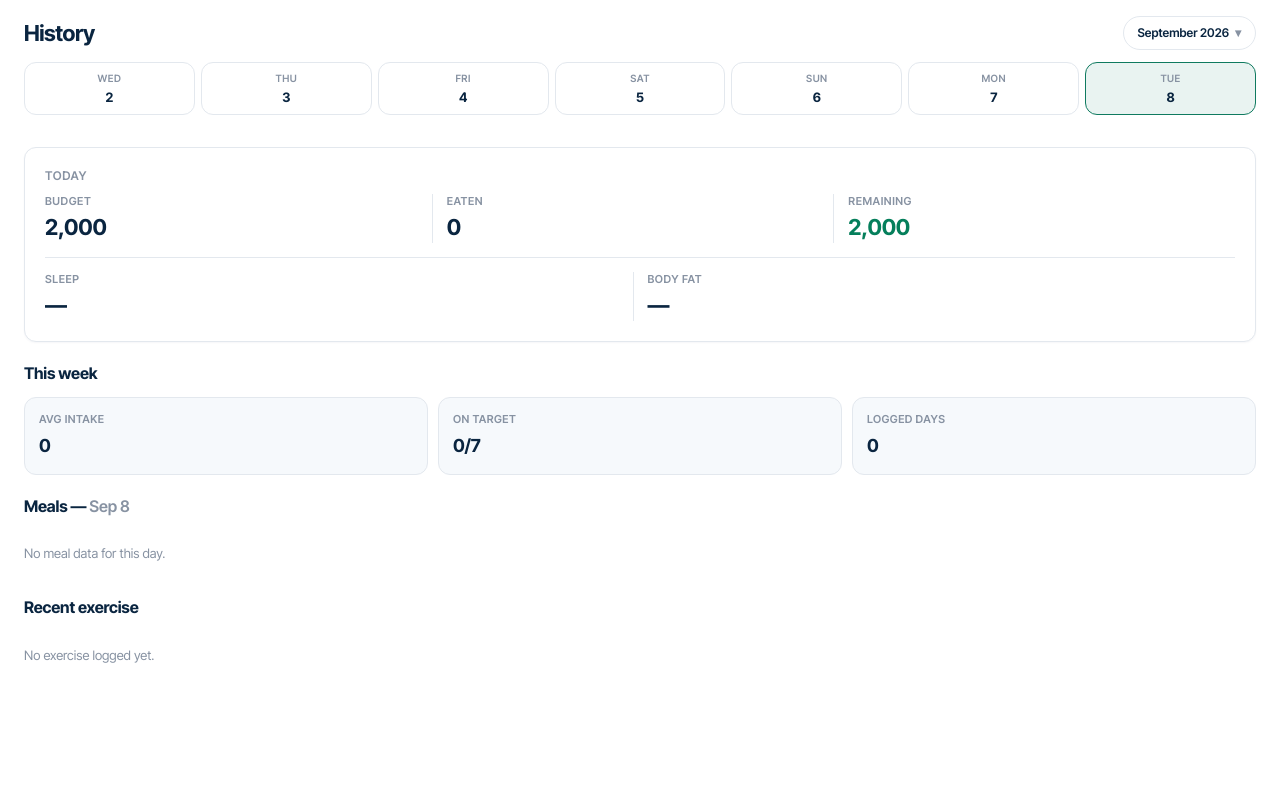
Test: History — month/year picker › loads the week ending on a date picked in the calendar
Click the button "September 2026 ▾".
click(1189, 33)  # box [1122, 16, 1256, 50]
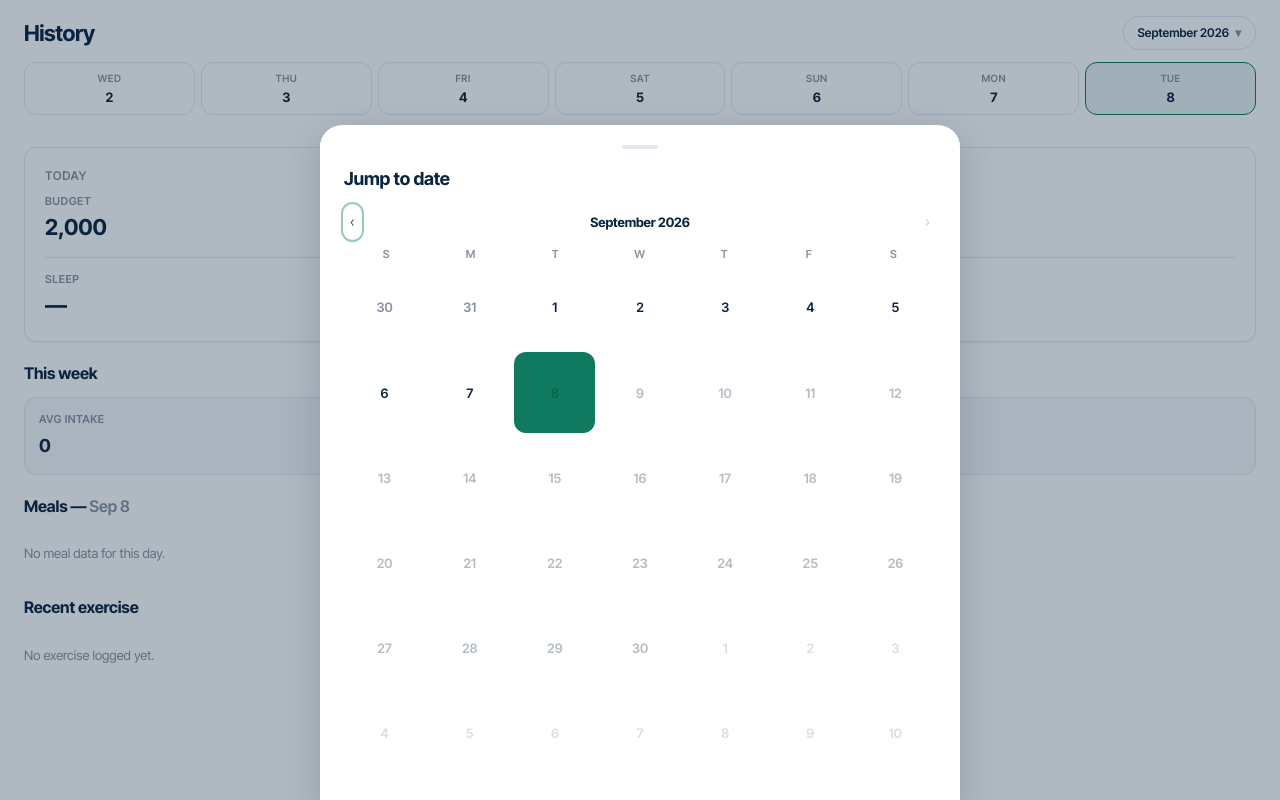
Click the button named "Previous month".
click(352, 222)  # box [344, 205, 361, 239]
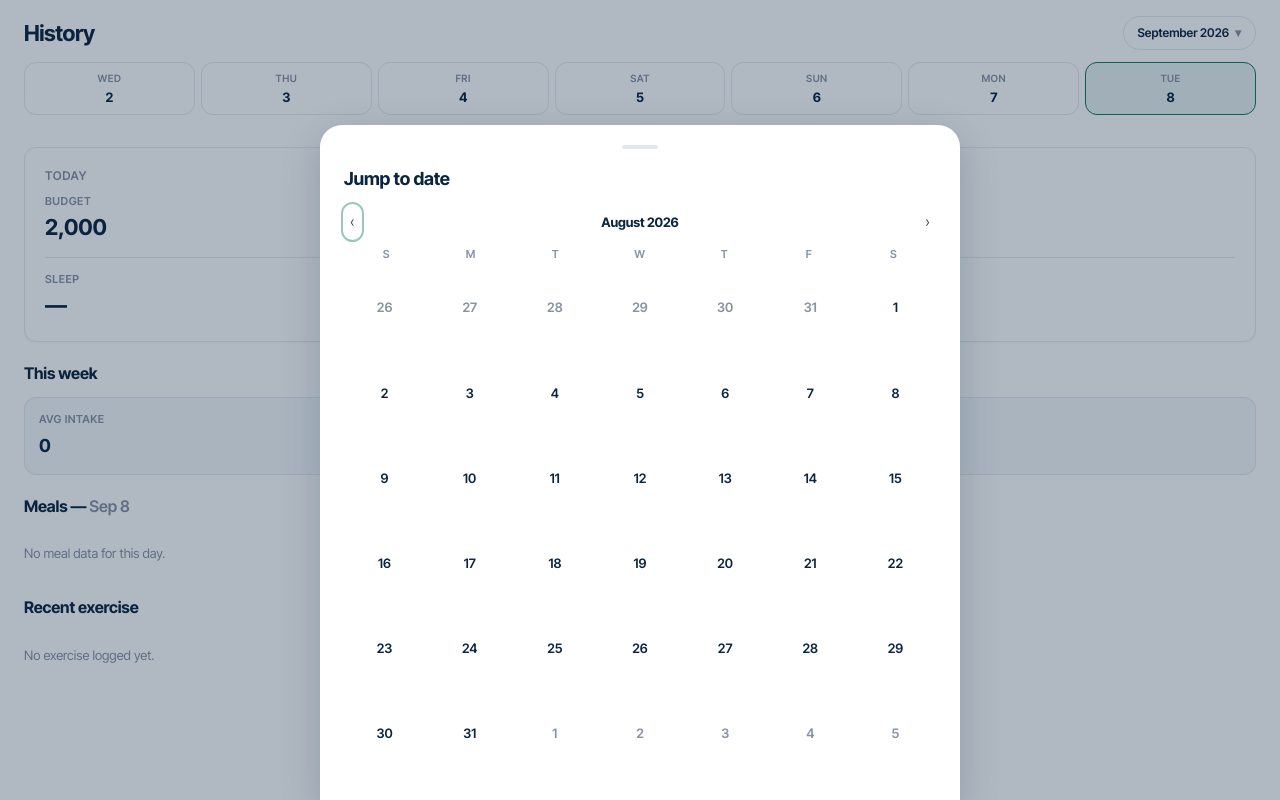
Click the button named "Previous month".
click(352, 222)  # box [344, 205, 361, 239]
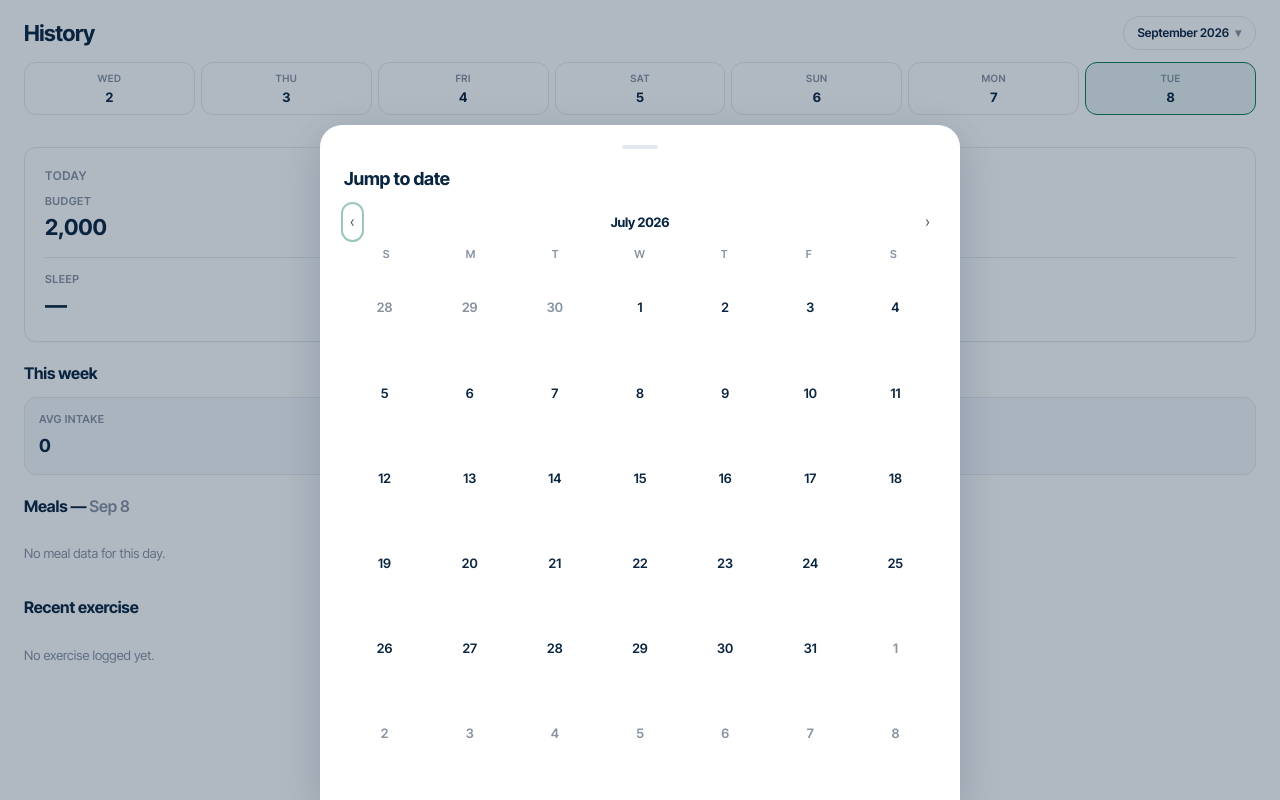
Click the button "15".
click(640, 478)  # box [599, 437, 680, 518]
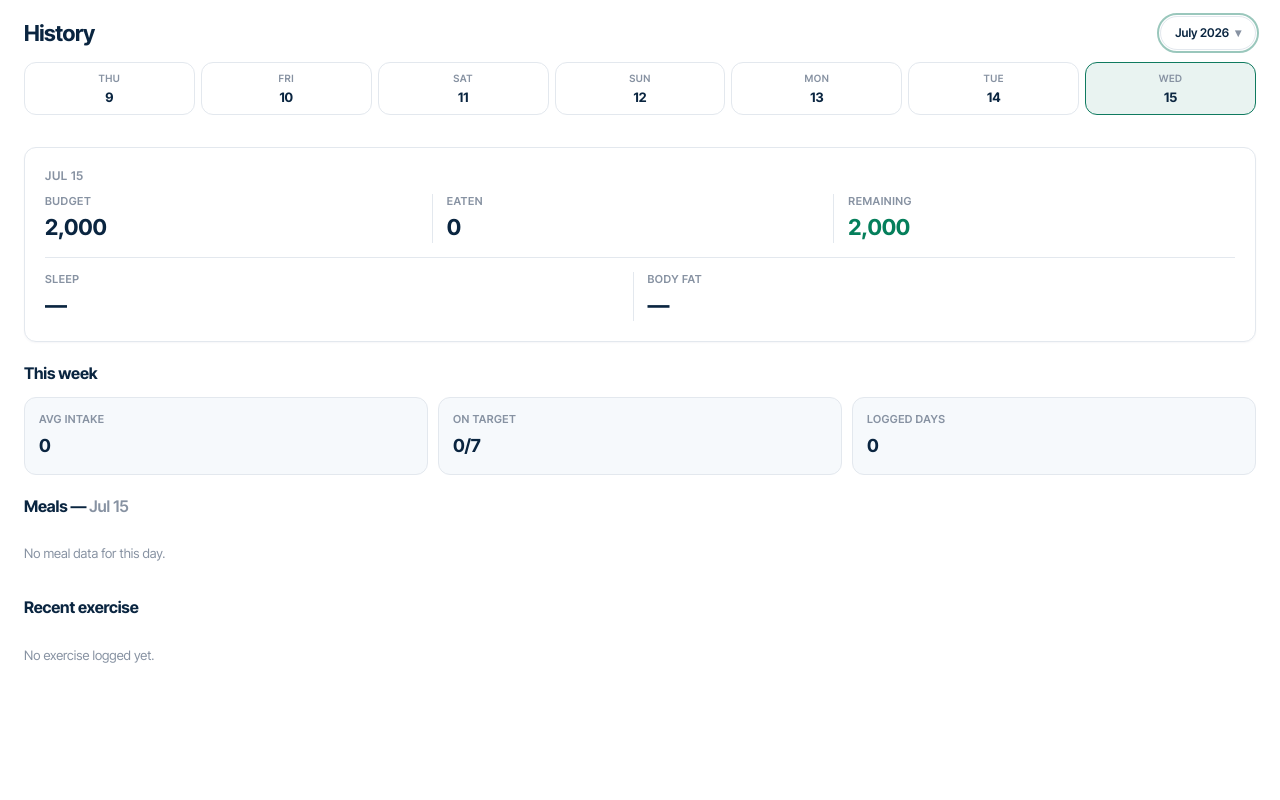
Now the 1st text "Jul 15" is shown, box [45, 168, 84, 183]
